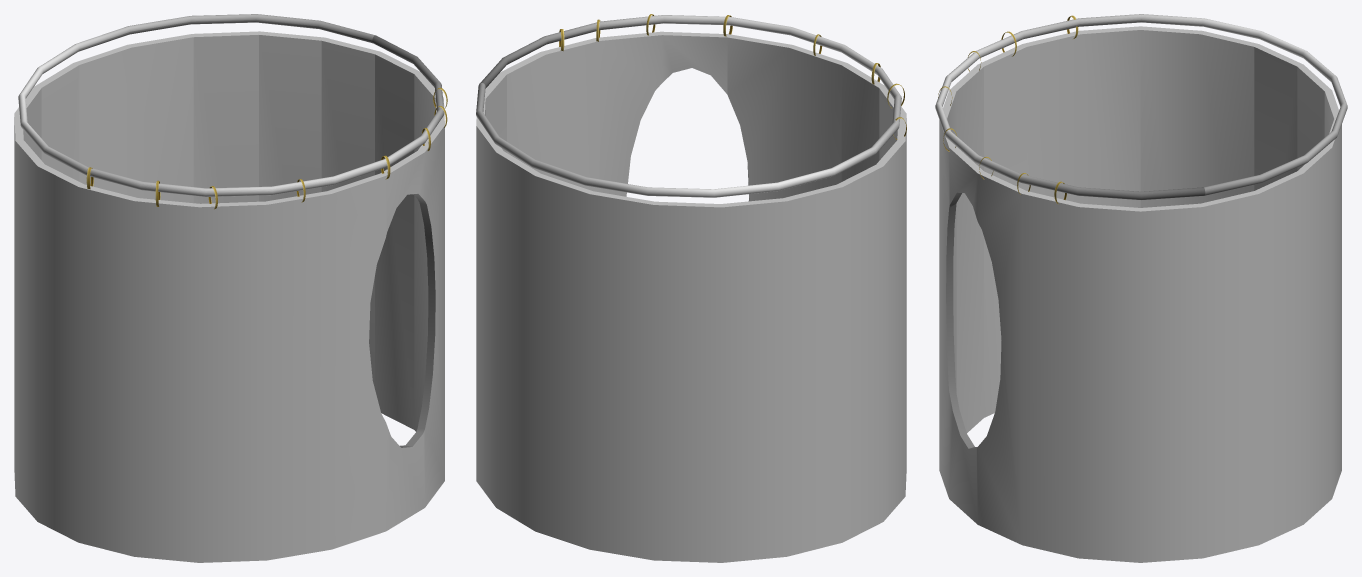
The model's file is cortina.obj.
The picture shows the model from 3 angles, left to right: view 1: azimuth 30°, elevation 25°; view 2: azimuth 150°, elevation 25°; view 3: azimuth 270°, elevation 25°; orthographic projection.
Parts seen in each view (by area): view 1: pTorus3; view 2: pTorus3; view 3: pTorus3.
Boxes of the visible parts, <box> form: pTorus3: <box>14,14,447,562</box>; pTorus3: <box>476,14,906,562</box>; pTorus3: <box>935,14,1347,562</box>.
Bounding box in the file's own units: 13.25 × 12.4 × 12.48.
